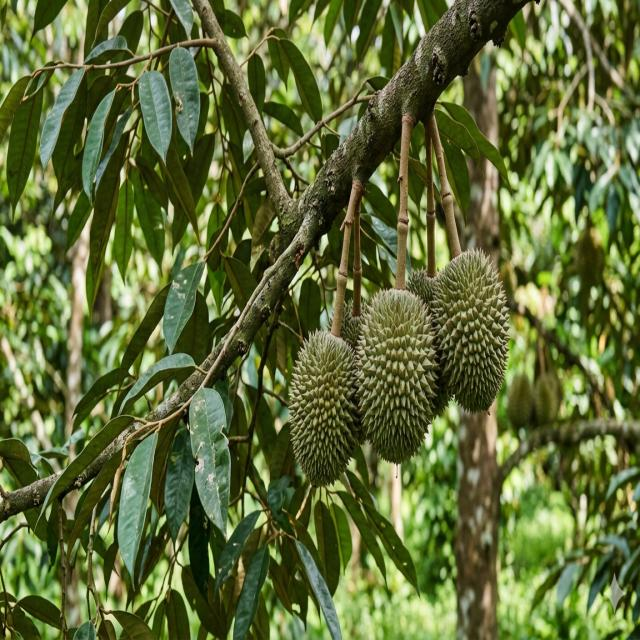immature: (355, 286, 440, 464), (431, 245, 512, 412), (288, 326, 361, 486), (337, 297, 363, 354), (408, 265, 438, 307)
